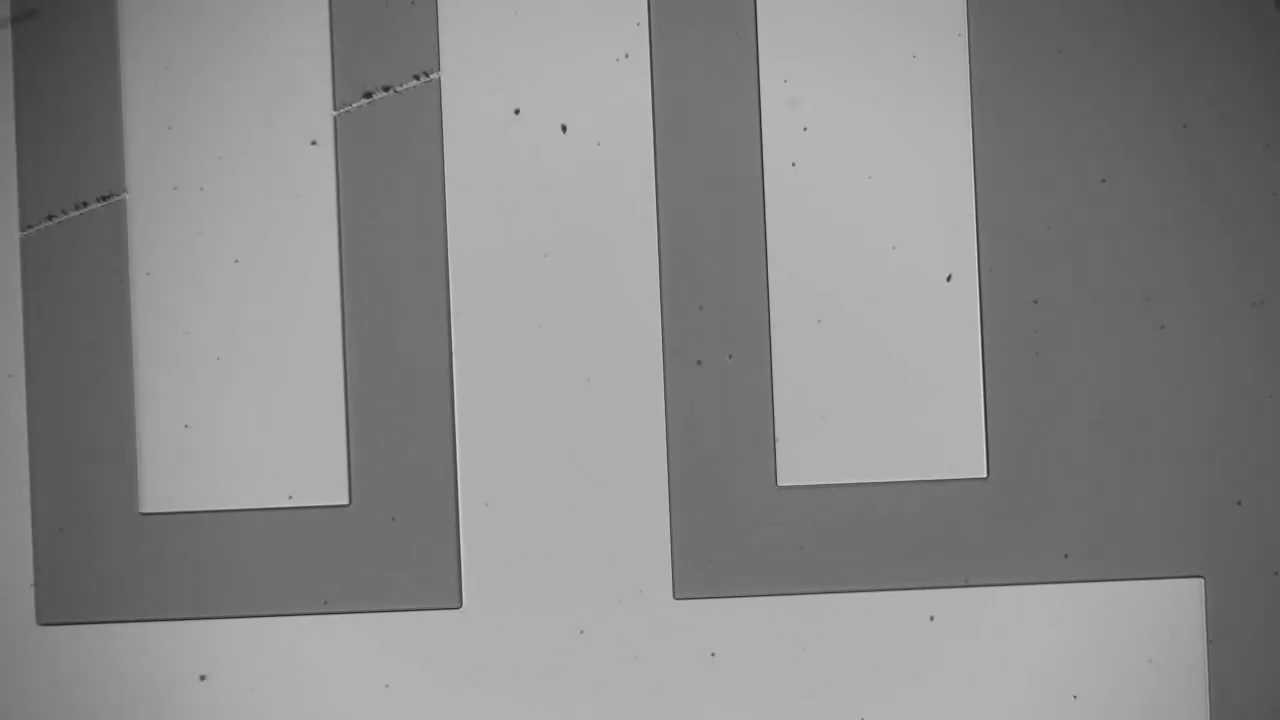scratch: (334, 65, 439, 112), (23, 193, 126, 232)
